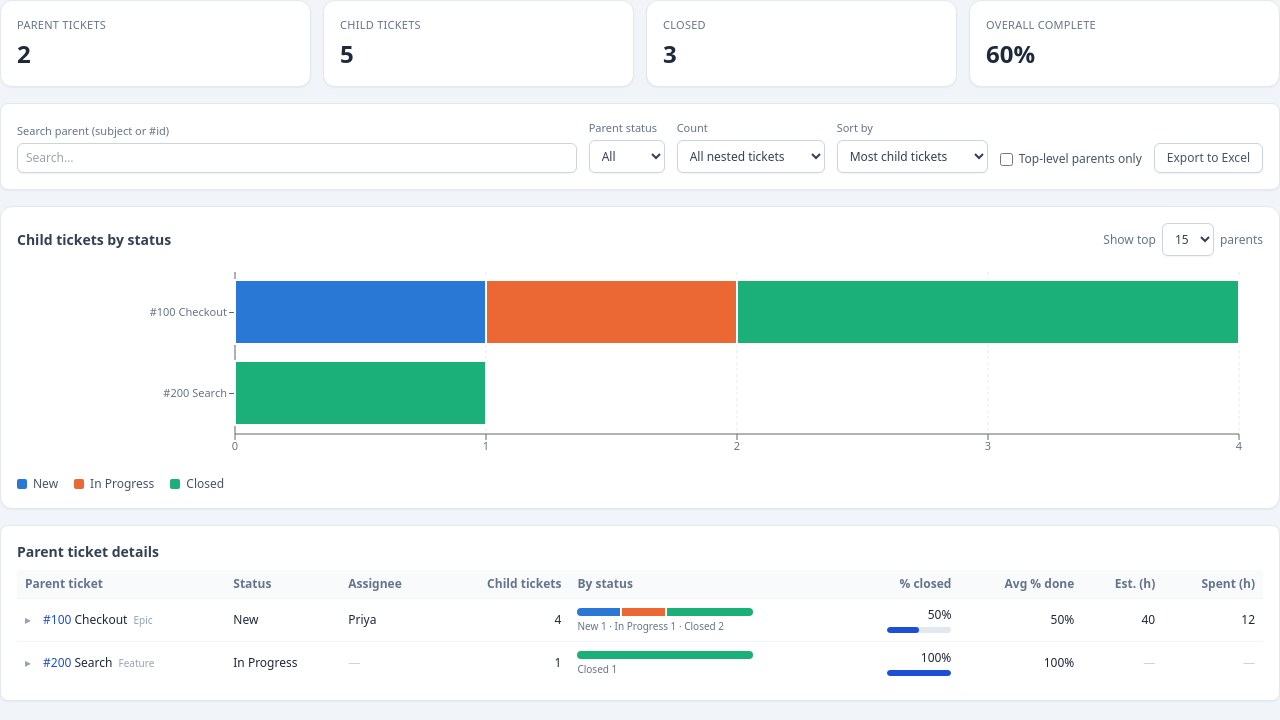
Test: ParentProgressPanel › searches by subject or ticket number, and filters by the parent's own status
The image size is (1280, 720).
Type "search" into the field labelled "Search parent (subject or #id)".
click(297, 158); type("search")  # box [17,143,577,173]
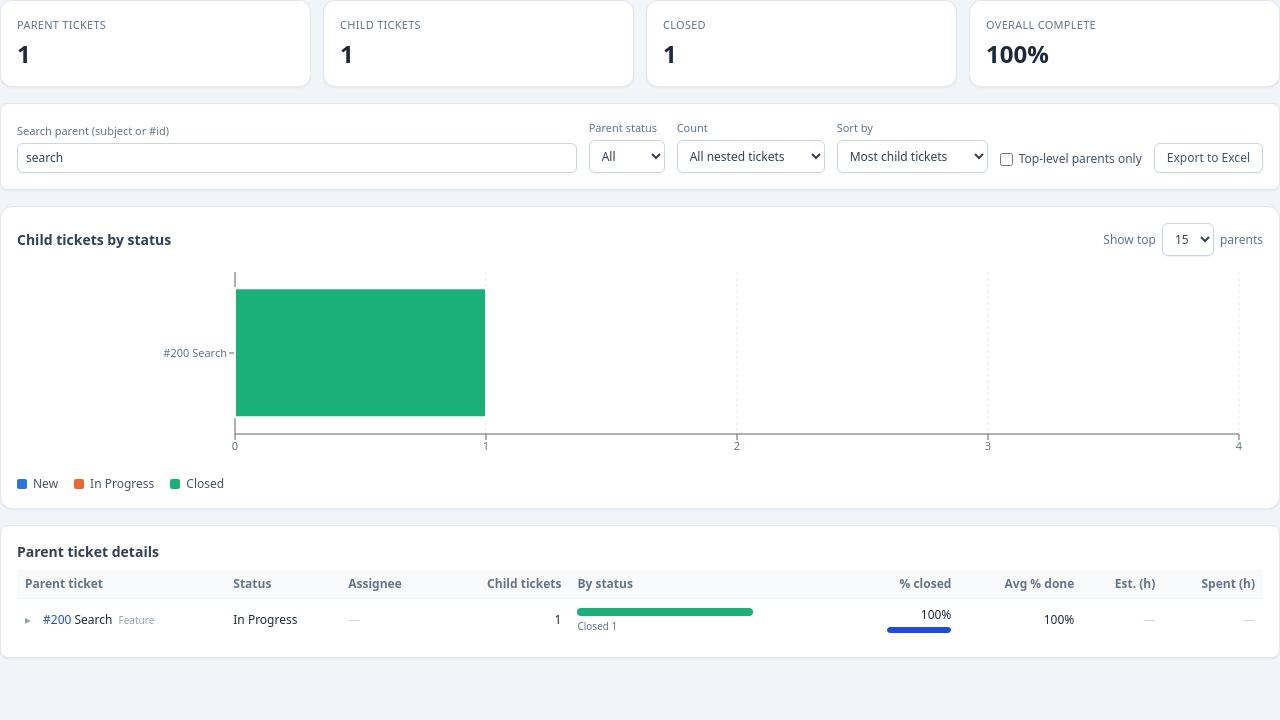
Expected: the row that starts with "Search" shows "#200", [17,598,1263,641]
Replace the text in the field labelled "Search parent (subject or #id)" with "#100" at (297, 158), box [17,143,577,173]
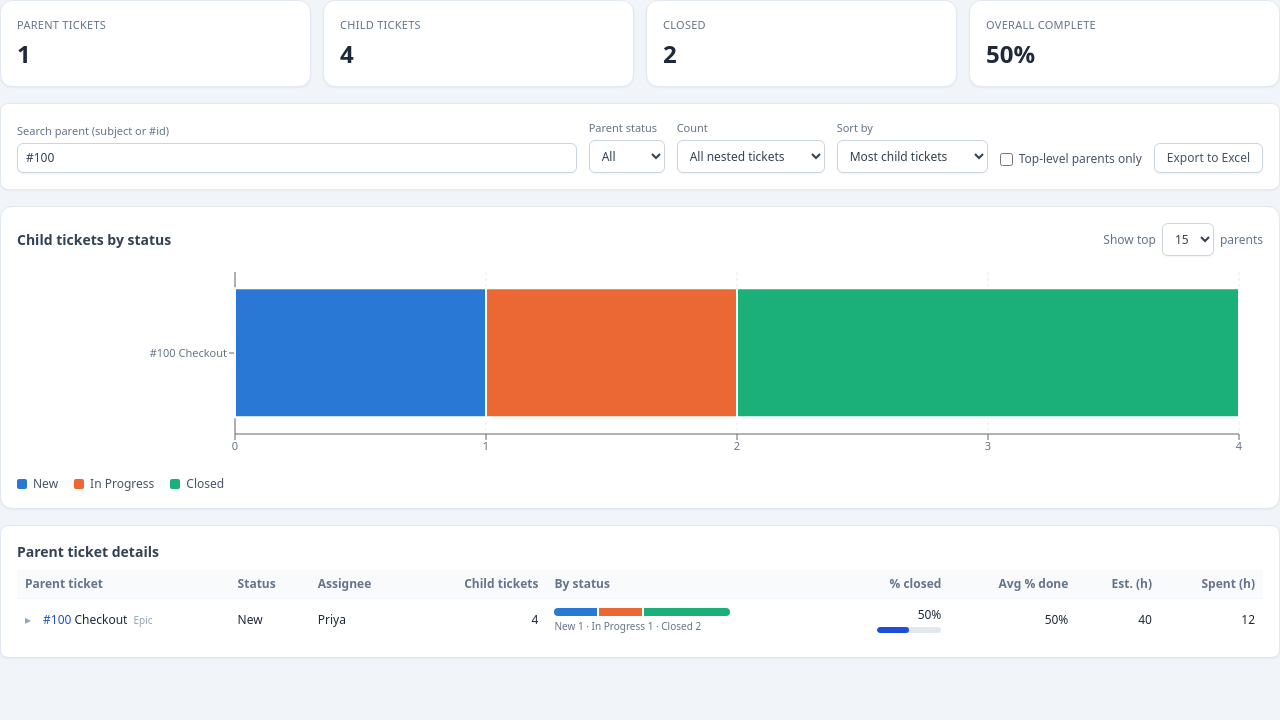
Expected: the row that starts with "Checkout" is shown, [74,611,128,628]
Clear the field labelled "Search parent (subject or #id)" at (297, 158), box [17,143,577,173]
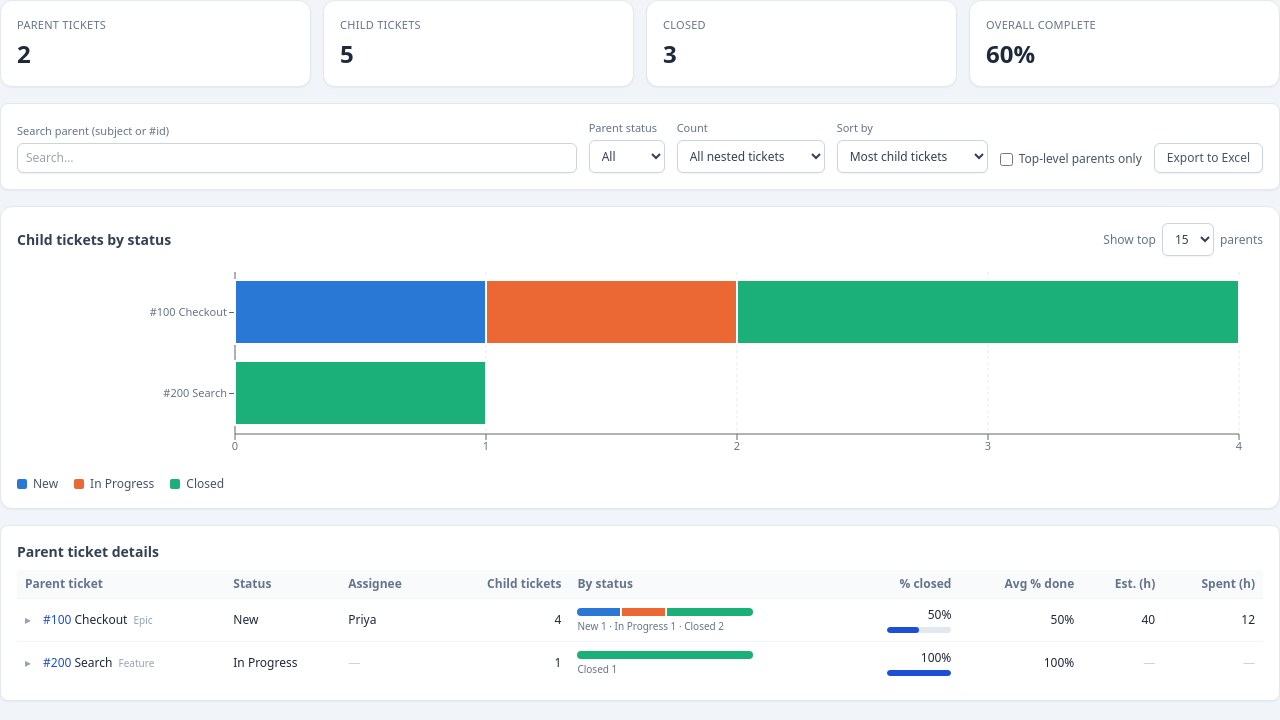
Select "Closed" in the dropdown labelled "Parent status" at (627, 156), box [589,140,665,173]
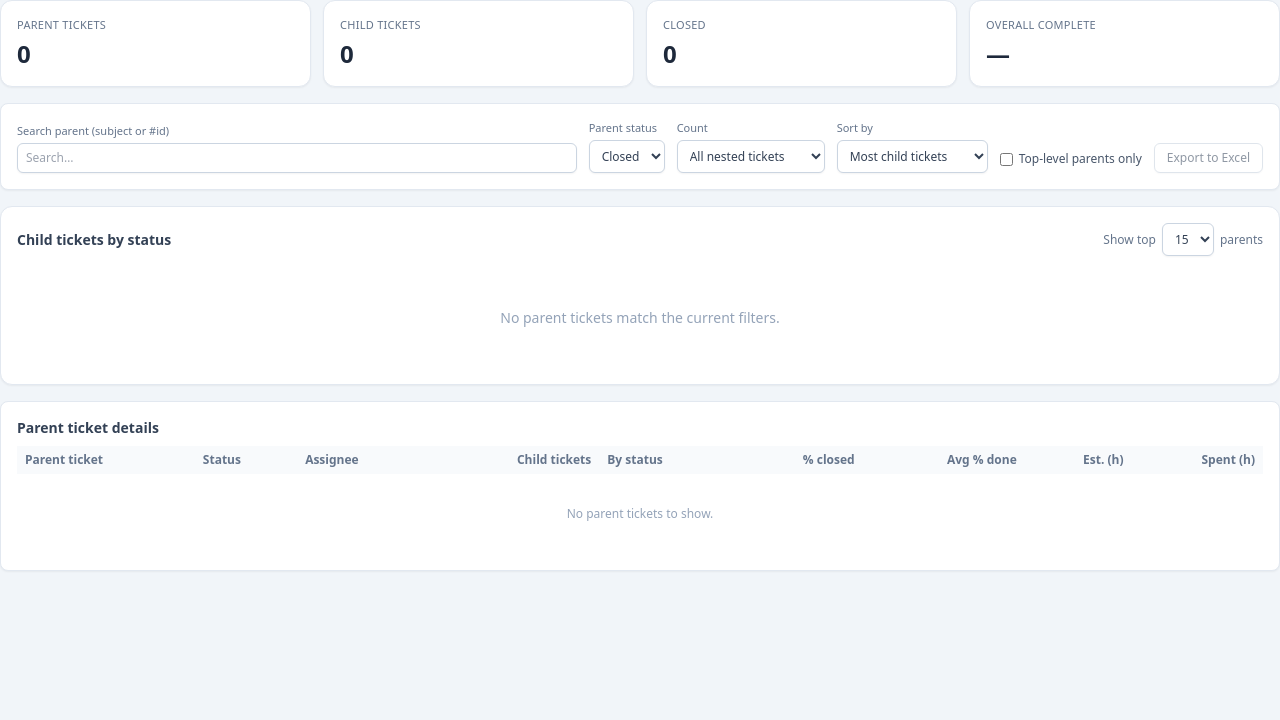
Expected: the text "No parent tickets match the current filters." is shown, [500,308,780,327]
